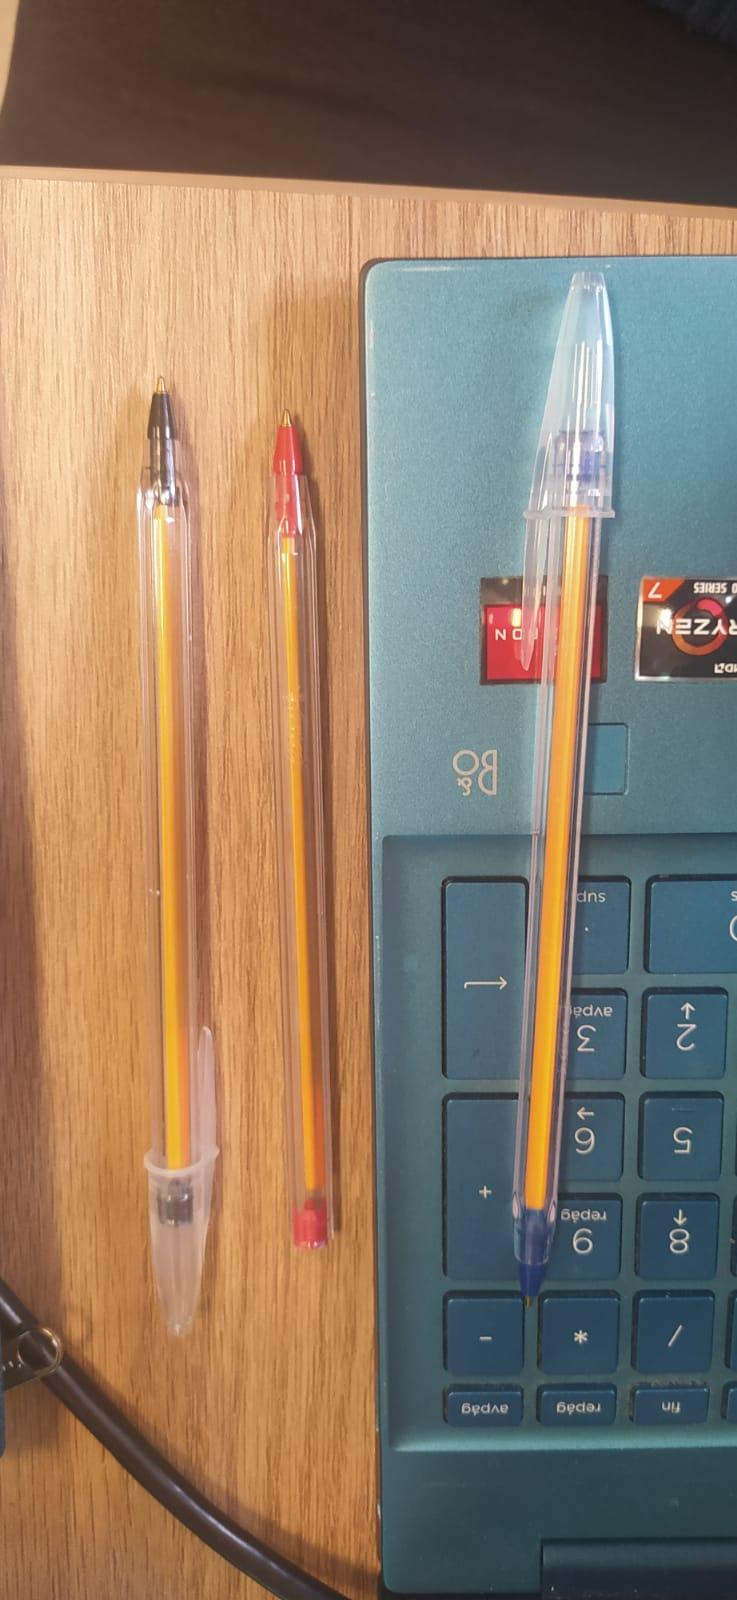pen: (506, 274, 624, 1318), (130, 367, 229, 1345), (256, 404, 343, 1252)
